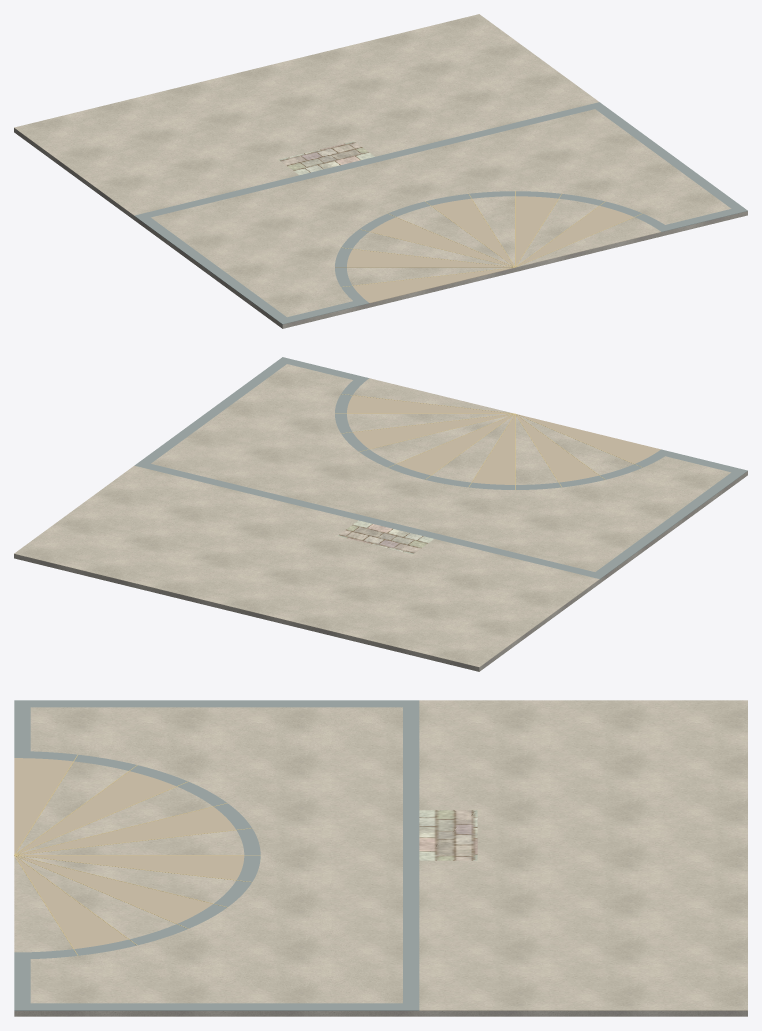
The model's file is floor_0.glb.
The picture shows the model from 3 angles, top to bottom: view 1: azimuth 30°, elevation 25°; view 2: azimuth 150°, elevation 25°; view 3: azimuth 270°, elevation 25°; orthographic projection. The views are drawn at different scales.
Parts seen in each view (by area): view 1: floor_0_terrazzo, floor_0_terr_b, floor_0_terr_a, floor_0_concrete, floor_0_stone, floor_0_gold; view 2: floor_0_terrazzo, floor_0_terr_b, floor_0_terr_a, floor_0_concrete, floor_0_stone, floor_0_gold; view 3: floor_0_terrazzo, floor_0_terr_b, floor_0_terr_a, floor_0_concrete, floor_0_stone, floor_0_gold.
Boxes of the visible parts, x1,y1,x2,y2 form: floor_0_terrazzo: [14, 14, 731, 317]; floor_0_terr_b: [134, 102, 747, 324]; floor_0_terr_a: [347, 196, 633, 303]; floor_0_concrete: [14, 128, 747, 328]; floor_0_stone: [278, 141, 374, 175]; floor_0_gold: [335, 191, 642, 287]; floor_0_terrazzo: [14, 364, 730, 667]; floor_0_terr_b: [134, 357, 747, 578]; floor_0_terr_a: [347, 395, 660, 484]; floor_0_concrete: [14, 471, 747, 671]; floor_0_stone: [338, 520, 433, 554]; floor_0_gold: [335, 394, 642, 489]; floor_0_terrazzo: [14, 700, 747, 1010]; floor_0_terr_b: [14, 700, 419, 1010]; floor_0_terr_a: [14, 758, 244, 948]; floor_0_concrete: [14, 1011, 747, 1016]; floor_0_stone: [419, 810, 477, 860]; floor_0_gold: [14, 755, 260, 955].
Bounding box in the file's own units: 13.4 × 0.132 × 13.41.
Materials: 6 (3 with a texture image).
